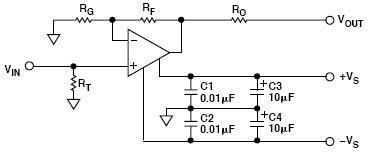amplifier: (125, 27, 171, 79)
cap1: (183, 86, 200, 98), (181, 119, 200, 129), (248, 86, 265, 97), (249, 118, 265, 129)
res2: (226, 14, 251, 26), (72, 14, 95, 26), (137, 15, 160, 25), (70, 73, 78, 94)
